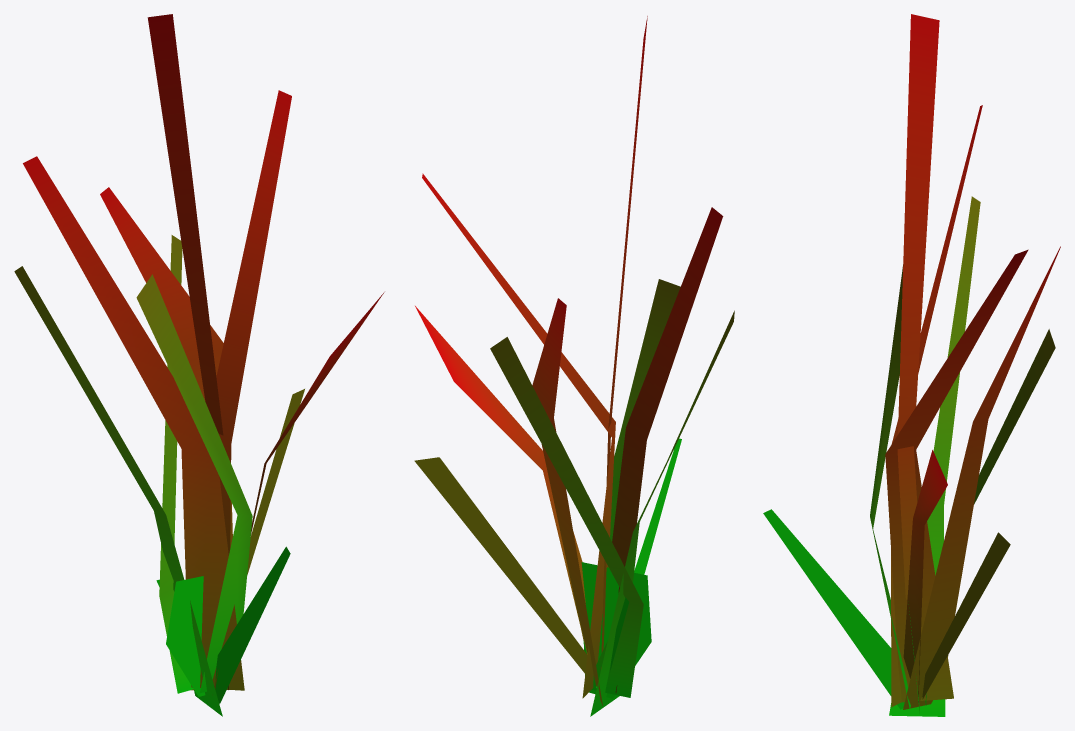
Rendered from Desert Grass_LOD1_Var2_scpho.fbx.
3 views of the same model, side by side, from view 1: azimuth 30°, elevation 25°; view 2: azimuth 150°, elevation 25°; view 3: azimuth 270°, elevation 25° (orthographic). The views are drawn at different scales.
Parts seen in each view (by area): view 1: _8a03_Var2_LOD1; view 2: _8a03_Var2_LOD1; view 3: _8a03_Var2_LOD1.
Boxes of the visible parts, bbox=[...] form: _8a03_Var2_LOD1: bbox=[14, 14, 384, 716]; _8a03_Var2_LOD1: bbox=[414, 16, 734, 716]; _8a03_Var2_LOD1: bbox=[763, 14, 1060, 716].
Bounding box in the file's own units: 12.03 × 23.37 × 9.22.
